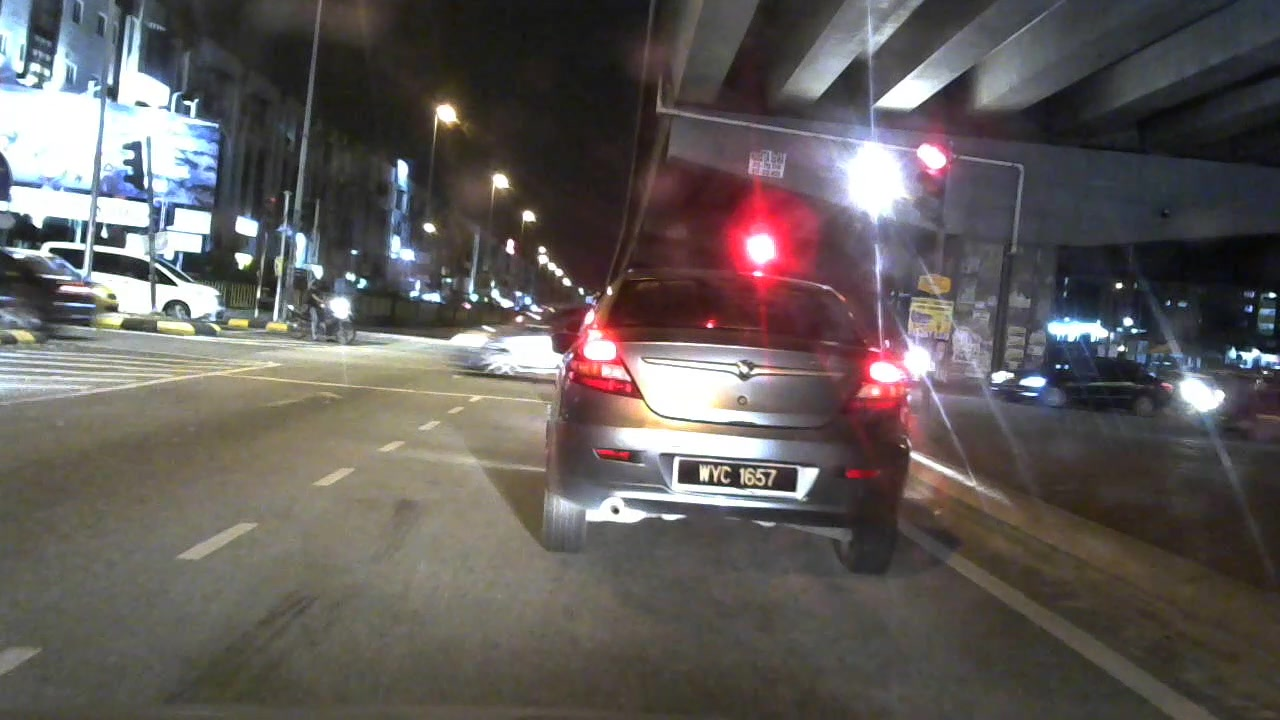Car: (521, 249, 918, 592), (40, 231, 247, 322), (984, 342, 1168, 414), (424, 309, 564, 393), (1, 244, 117, 320)
